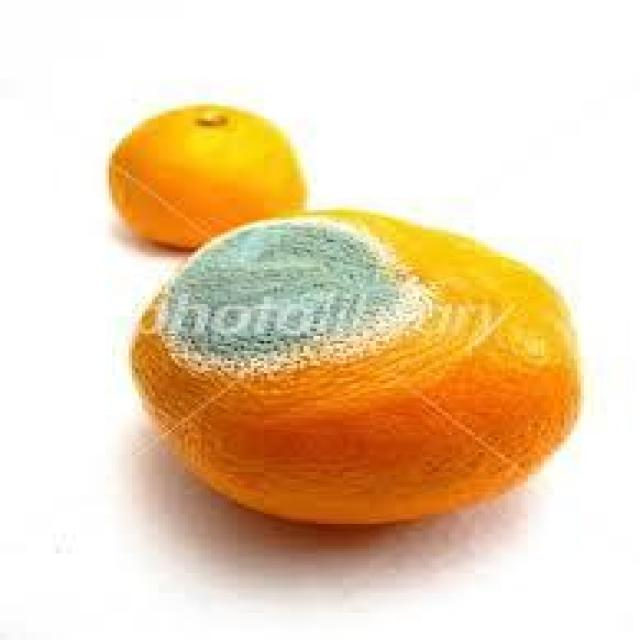organic: (106, 104, 584, 529)
